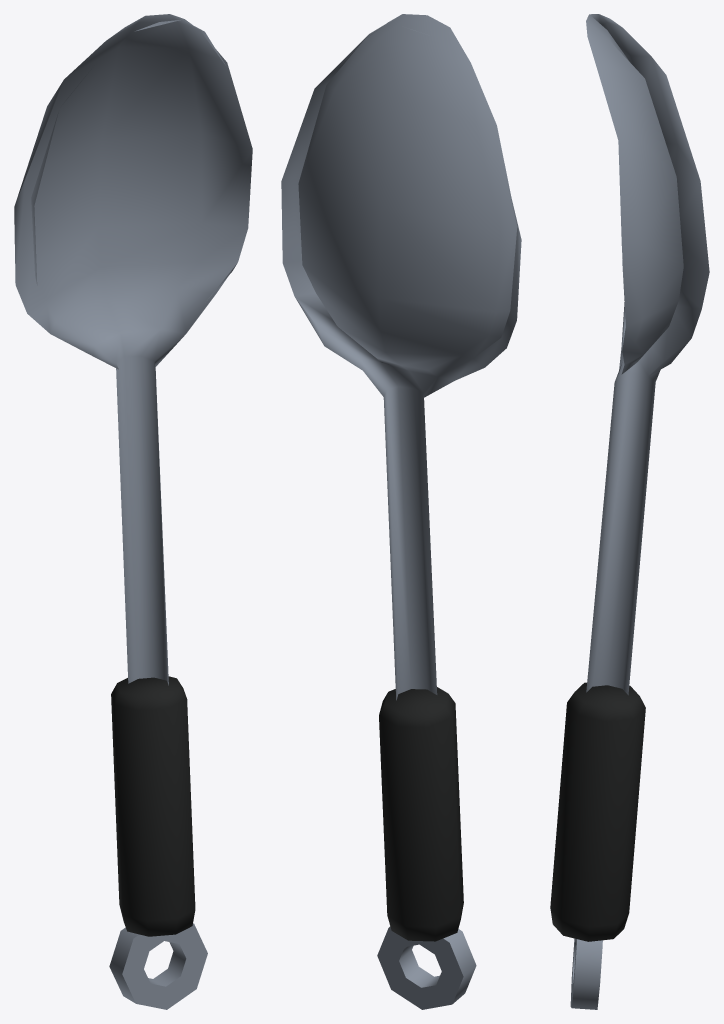
File: cooking_assets_big_spoon.glb
3 renders of one model, left to right at view 1: azimuth 30°, elevation 25°; view 2: azimuth 150°, elevation 25°; view 3: azimuth 270°, elevation 25°, orthographic.
Parts seen in each view (by area): view 1: cutensils_big_spoon_Cylinder.025; view 2: cutensils_big_spoon_Cylinder.025; view 3: cutensils_big_spoon_Cylinder.025.
Boxes of the visible parts, x1,y1,x2,y2 form: cutensils_big_spoon_Cylinder.025: (14,14,252,1009); cutensils_big_spoon_Cylinder.025: (281,14,521,1009); cutensils_big_spoon_Cylinder.025: (550,14,709,1009).
Size of the model in its own units: 1.95 by 7.68 by 1.12.
1 material, 1 textured.
